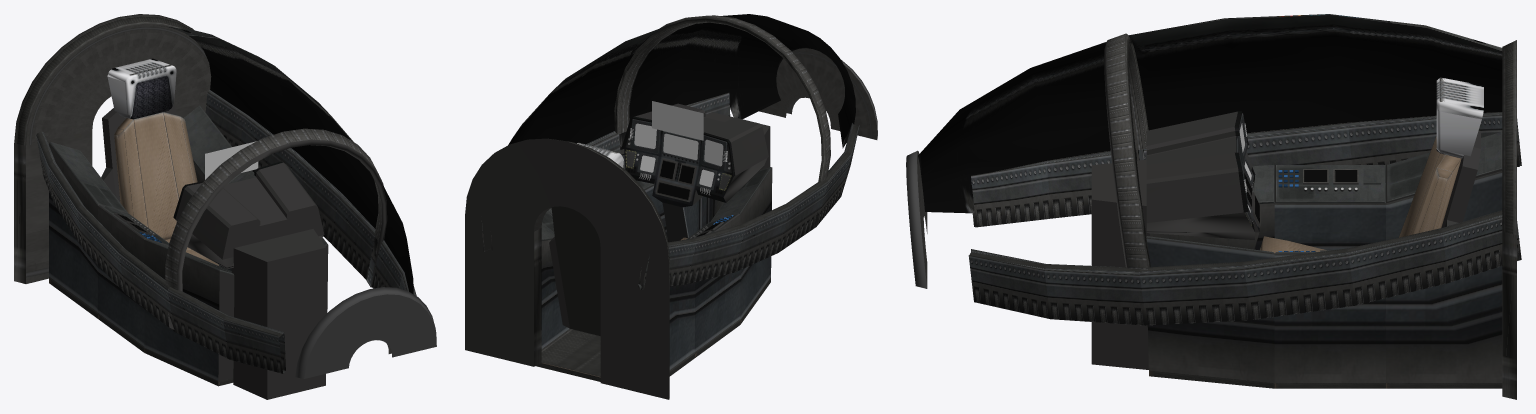
Rendered from StormPit.fbx.
The picture shows the model from 3 angles, left to right: view 1: azimuth 30°, elevation 25°; view 2: azimuth 150°, elevation 25°; view 3: azimuth 270°, elevation 25°; orthographic projection. The views are drawn at different scales.
Visible parts, largest first — view 1: StormPit; view 2: StormPit; view 3: StormPit.
Boxes of the visible parts, box(x1,y1,x2,y2) form: StormPit: box(14, 14, 436, 399); StormPit: box(465, 14, 877, 399); StormPit: box(906, 14, 1521, 399).
Bounding box in the file's own units: 415 × 462 × 809.
